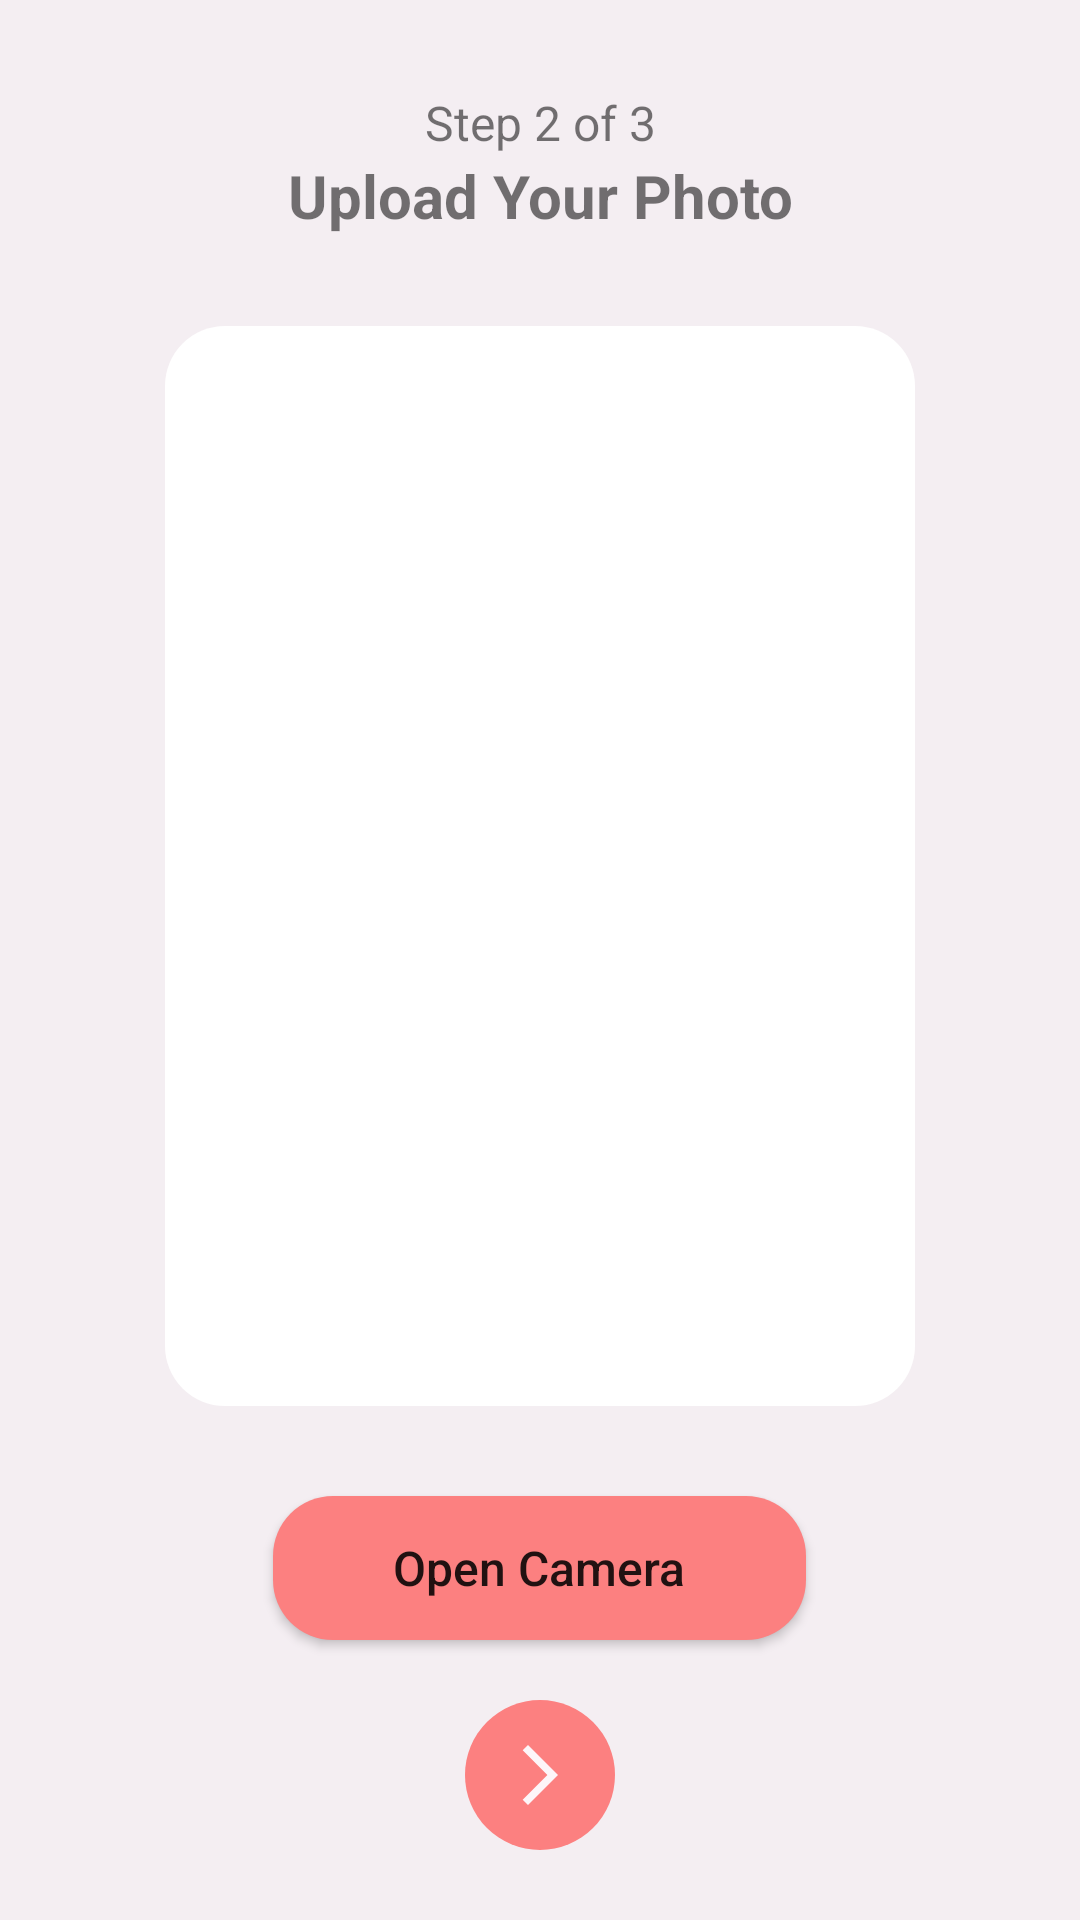

Icons on this 1080px x 1920px Android screen, each with its box as rect(x1, y1, x2, y2):
forward: rect(465, 1700, 615, 1850)
